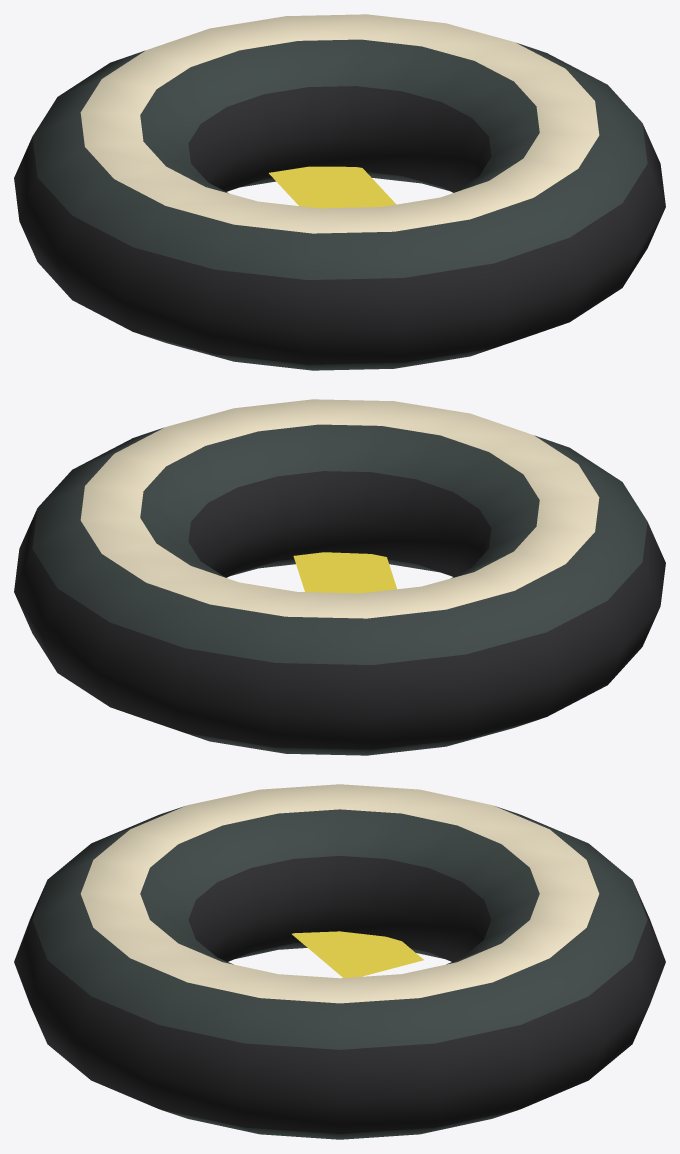
The model's file is prop_roof_tire.glb.
The picture shows the model from 3 angles, top to bottom: view 1: azimuth 30°, elevation 25°; view 2: azimuth 150°, elevation 25°; view 3: azimuth 270°, elevation 25°; orthographic projection.
Visible parts, largest first — view 1: prop_roof_tire; view 2: prop_roof_tire; view 3: prop_roof_tire.
Part boxes in pixels (bbox=[...]): prop_roof_tire: bbox=[14, 14, 665, 370]; prop_roof_tire: bbox=[14, 399, 665, 755]; prop_roof_tire: bbox=[14, 784, 665, 1139].
Size of the model in its own units: 0.71 by 0.1638 by 0.71.
